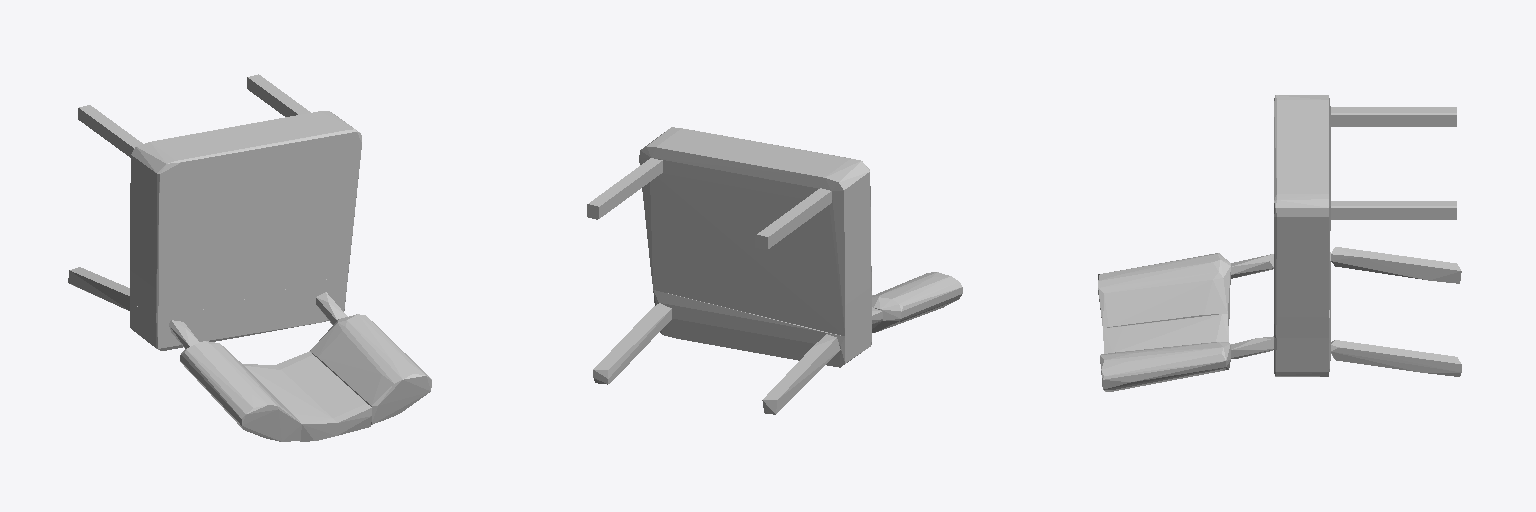
The picture shows the model from 3 angles: view 1: azimuth 30°, elevation 25°; view 2: azimuth 150°, elevation 25°; view 3: azimuth 270°, elevation 25°; orthographic projection.
Visible parts, largest first — view 1: convex_0, convex_6, convex_1, convex_3, convex_5, convex_4, convex_9, convex_7, convex_8; view 2: convex_0, convex_1, convex_3, convex_2, convex_9, convex_7, convex_8; view 3: convex_0, convex_3, convex_6, convex_4, convex_2, convex_9, convex_7, convex_8, convex_1, convex_10, convex_11.
Part boxes in pixels (x1,y1,x2,y2): convex_0: (130, 111, 361, 319); convex_6: (310, 314, 431, 424); convex_1: (130, 274, 347, 350); convex_3: (180, 341, 301, 441); convex_5: (275, 351, 371, 435); convex_4: (243, 364, 336, 441); convex_9: (68, 267, 129, 310); convex_7: (78, 105, 142, 157); convex_8: (247, 74, 310, 116); convex_0: (639, 127, 871, 336); convex_1: (653, 290, 871, 367); convex_3: (872, 272, 962, 332); convex_2: (593, 303, 671, 384); convex_9: (762, 334, 840, 414); convex_7: (755, 188, 831, 249); convex_8: (587, 158, 662, 219); convex_0: (1274, 95, 1330, 337); convex_3: (1098, 253, 1230, 327); convex_6: (1100, 342, 1230, 391); convex_4: (1103, 314, 1228, 353); convex_2: (1331, 340, 1461, 376); convex_9: (1331, 247, 1461, 283); convex_7: (1331, 107, 1456, 126); convex_8: (1331, 201, 1456, 219); convex_1: (1274, 252, 1330, 376); convex_10: (1231, 254, 1273, 278); convex_11: (1231, 336, 1273, 358).
Bounding box in the file's own units: 0.5313 × 0.5641 × 0.8002.